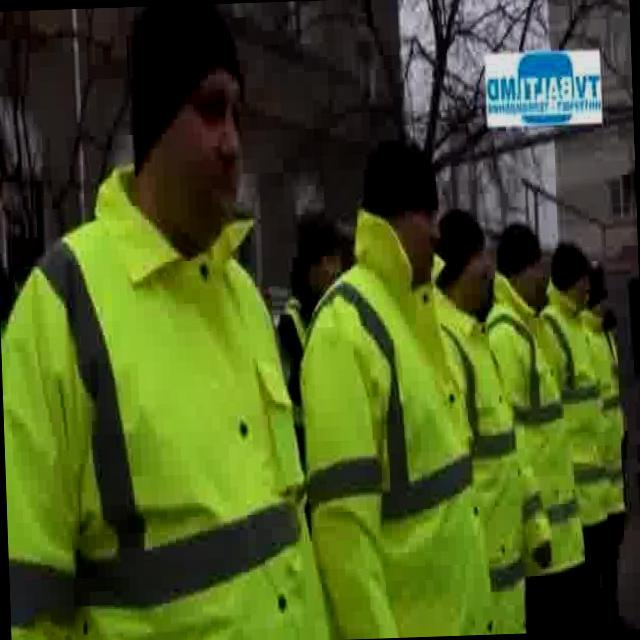vest: (0, 154, 331, 640), (291, 195, 494, 640), (427, 283, 524, 636), (479, 265, 586, 579), (538, 272, 607, 526), (580, 305, 628, 521)
